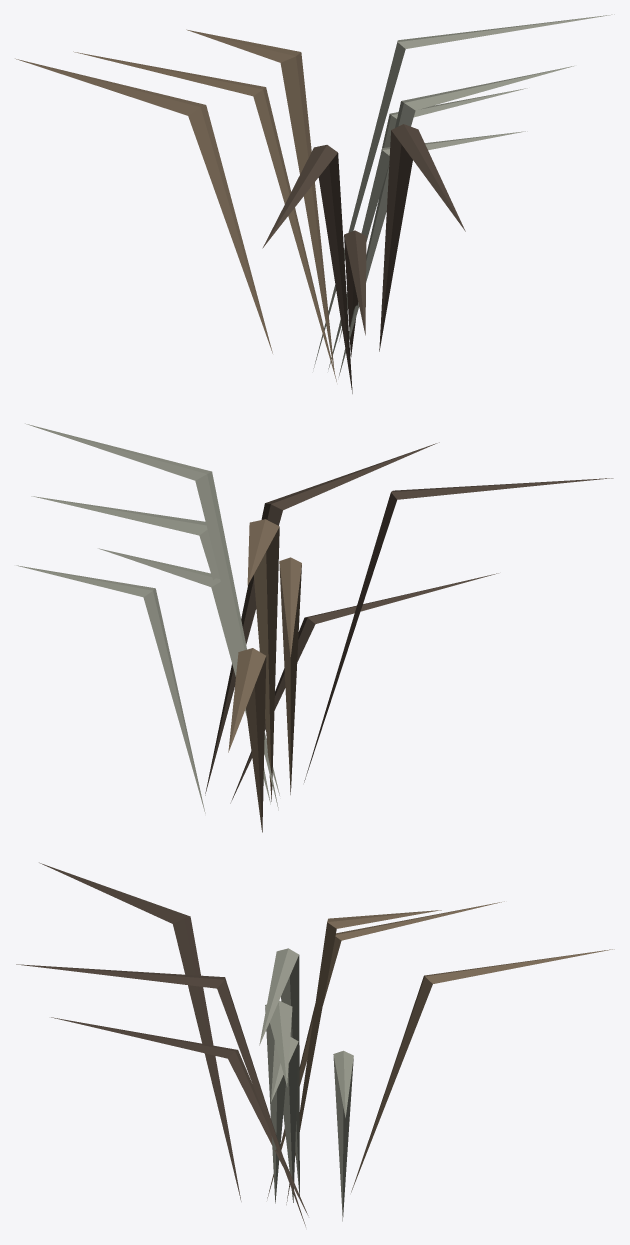
Rendered from ASH_GRASS_CLUMP.shadow.glb.
The picture shows the model from 3 angles, top to bottom: view 1: azimuth 30°, elevation 25°; view 2: azimuth 150°, elevation 25°; view 3: azimuth 270°, elevation 25°; orthographic projection. The views are drawn at different scales.
Visible parts, largest first — view 1: ASH_GRASS_CLUMP; view 2: ASH_GRASS_CLUMP; view 3: ASH_GRASS_CLUMP.
Boxes of the visible parts, x1,y1,x2,y2 form: ASH_GRASS_CLUMP: (15, 14, 614, 393); ASH_GRASS_CLUMP: (16, 423, 613, 832); ASH_GRASS_CLUMP: (16, 862, 614, 1226).
Size of the model in its own units: 0.4929 by 0.3128 by 0.5967.
Materials: 1 (1 with a texture image).
